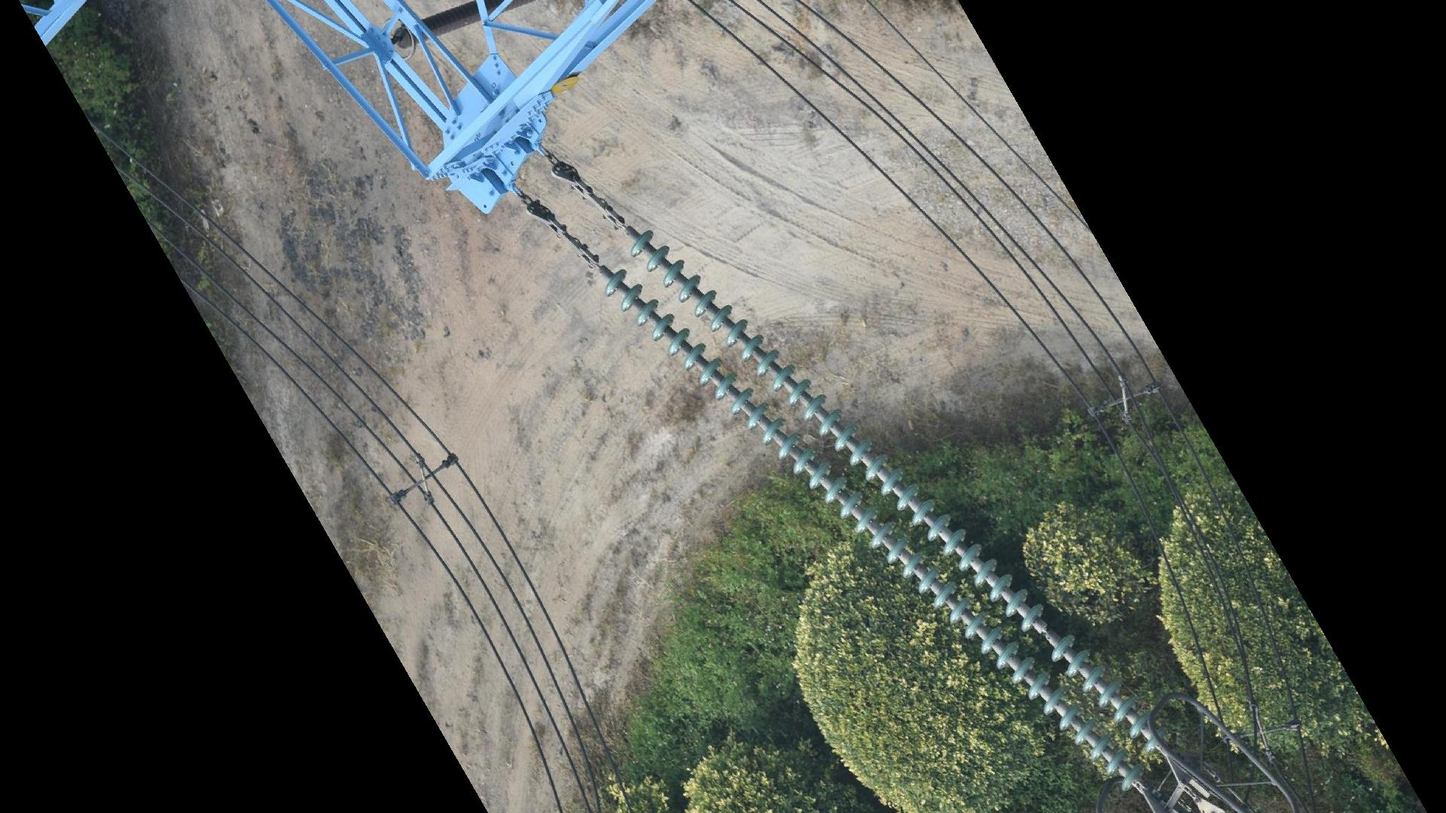insulator: (602, 224, 1177, 800)
insulator_stringdrop: (1016, 599, 1079, 667)
